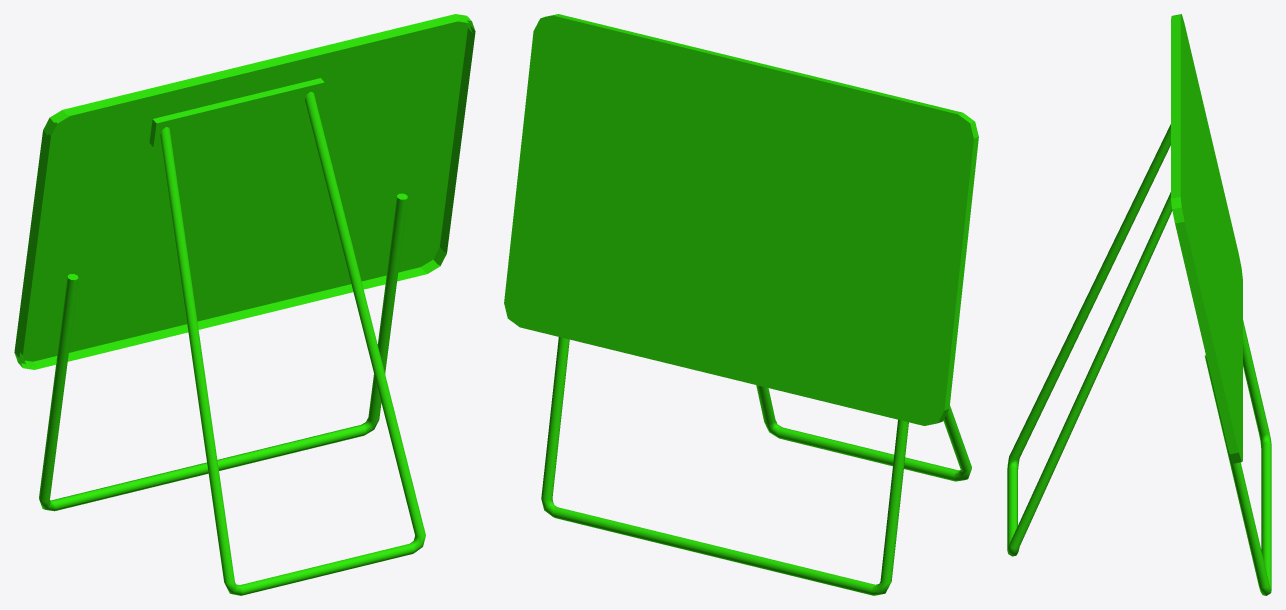
Rendered from Road_Sign_Base_06_Lod0.fbx.
3 views of the same model, side by side, from view 1: azimuth 30°, elevation 25°; view 2: azimuth 150°, elevation 25°; view 3: azimuth 270°, elevation 25° (orthographic). The views are drawn at different scales.
Parts seen in each view (by area): view 1: Road_Sign_Base_06_Lod0; view 2: Road_Sign_Base_06_Lod0; view 3: Road_Sign_Base_06_Lod0.
Part boxes in pixels (x1,y1,x2,y2): Road_Sign_Base_06_Lod0: [14, 14, 475, 595]; Road_Sign_Base_06_Lod0: [504, 14, 978, 595]; Road_Sign_Base_06_Lod0: [1007, 14, 1271, 595].
Size of the model in its own units: 70.39 by 69.65 by 39.71.
